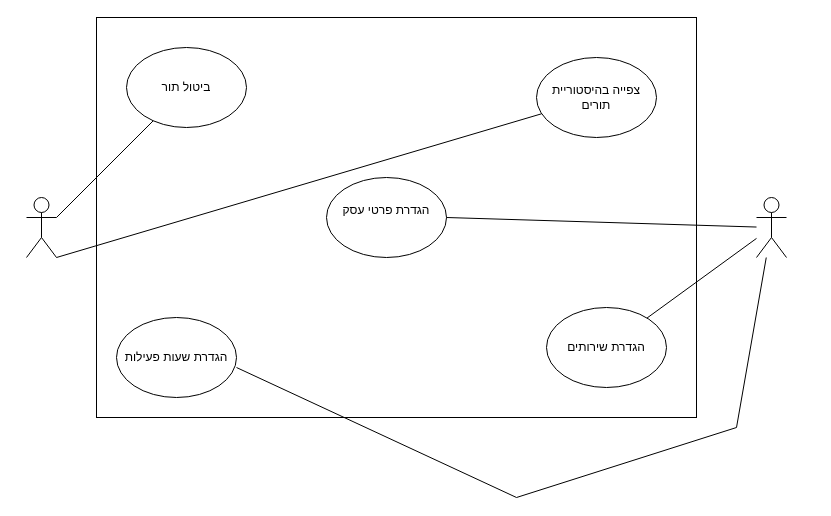
This 831x516 diagram has some shape labels left out. Here are the shapes that lost their labels. From the top down, the centre of each, then its label:
At (41,227): "costumer".
At (771,227): "service provider".
